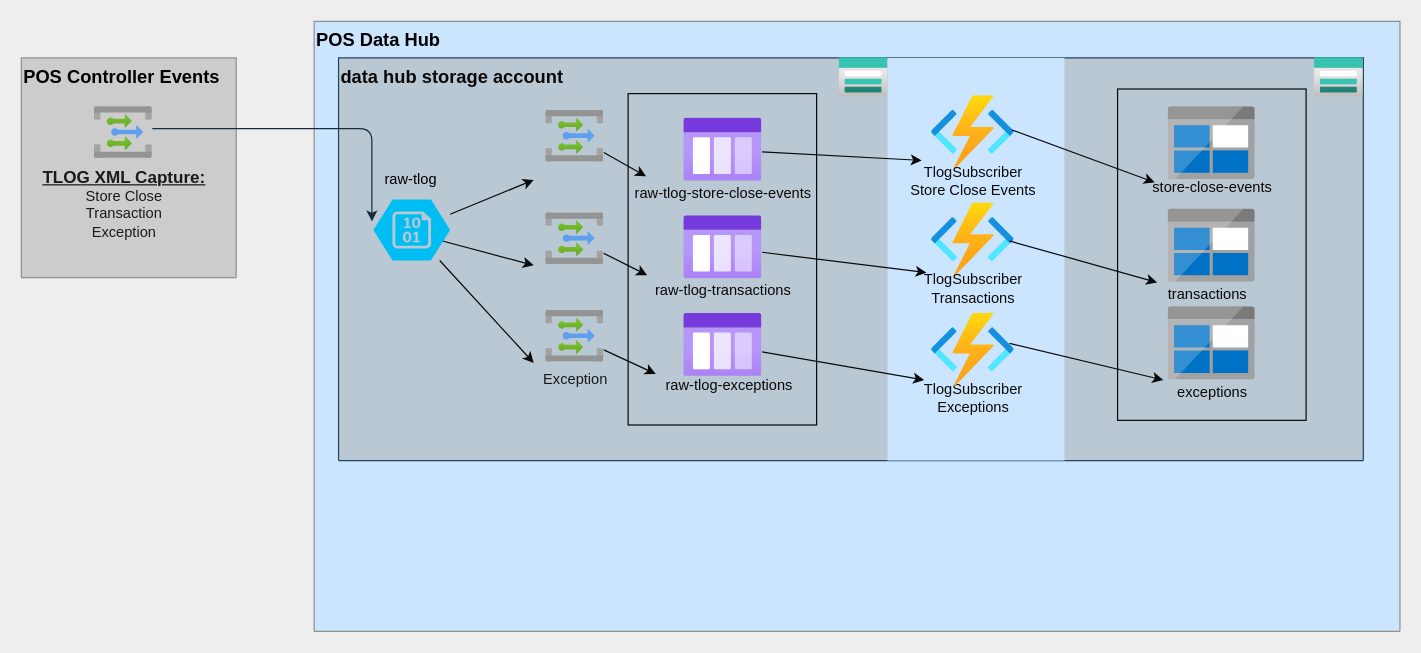
Some shapes in this 1421 by 653 pixel diagram are drawn without their labels. The shapes that lost their labels are listed below. From the top down, each one's centre as x and y in pixels, then its label:
At (574,136): "Store Close".
At (574,238): "Transaction".
